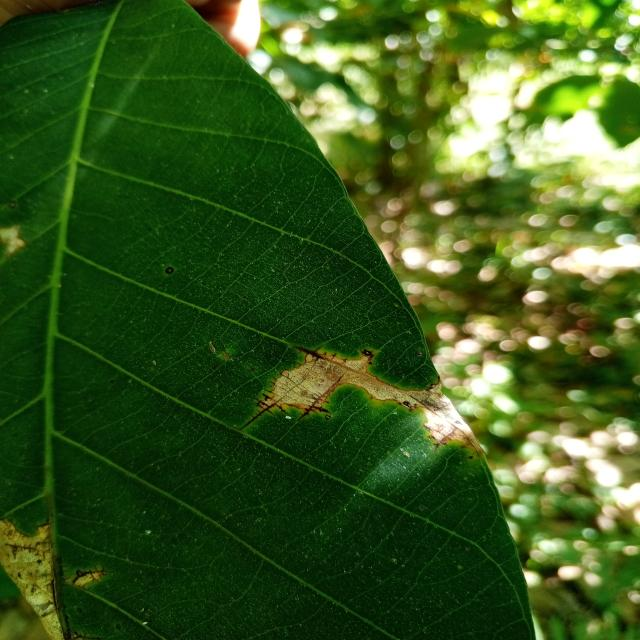Colletotrichum: (165, 267, 175, 274), (77, 608, 82, 613), (468, 456, 474, 460), (325, 415, 330, 419)
Corynespora: (238, 394, 288, 432), (298, 380, 340, 420), (70, 564, 109, 586), (294, 345, 328, 362), (6, 542, 36, 560)
Leaf-Blight: (266, 354, 483, 451), (0, 518, 64, 640)
